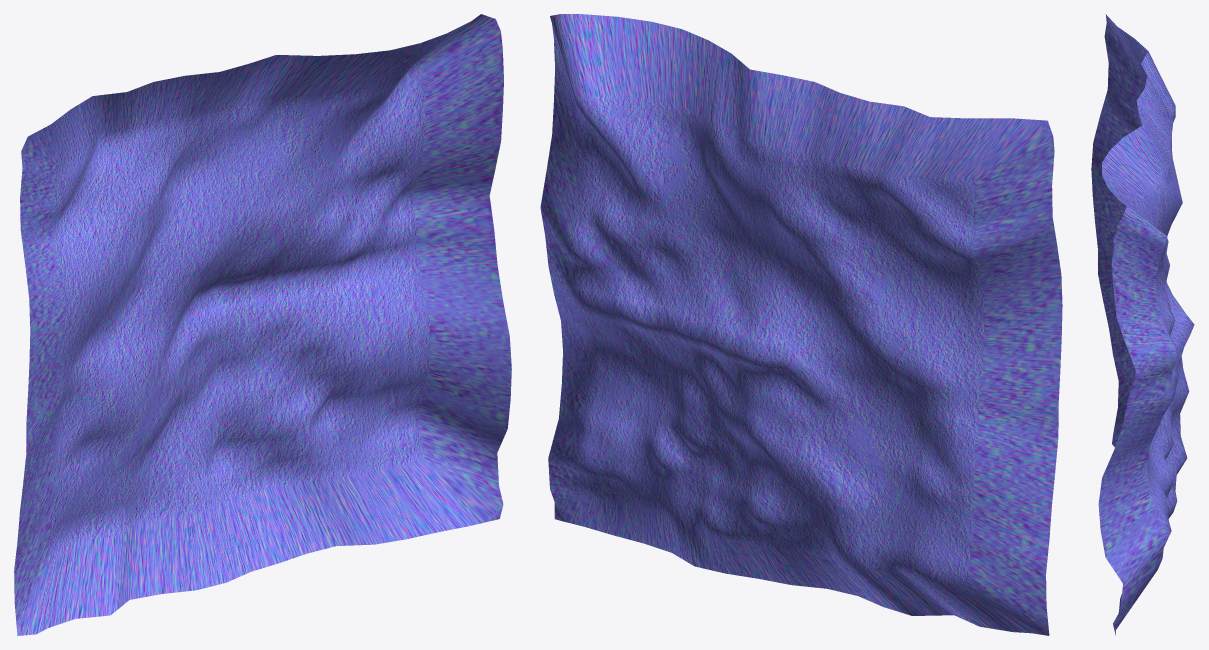
File: Terrain_UV_unrapped_New.fbx
3 renders of one model, left to right at view 1: azimuth 30°, elevation 25°; view 2: azimuth 150°, elevation 25°; view 3: azimuth 270°, elevation 25°, orthographic. The views are drawn at different scales.
Visible parts, largest first — view 1: Terrain_xyz_n_rgba_uv; view 2: Terrain_xyz_n_rgba_uv; view 3: Terrain_xyz_n_rgba_uv.
Part boxes in pixels (x1,y1,x2,y2): Terrain_xyz_n_rgba_uv: (14, 14, 511, 635); Terrain_xyz_n_rgba_uv: (540, 14, 1062, 635); Terrain_xyz_n_rgba_uv: (1091, 14, 1194, 635).
Bounding box in the file's own units: 385439 × 381637 × 83969.
